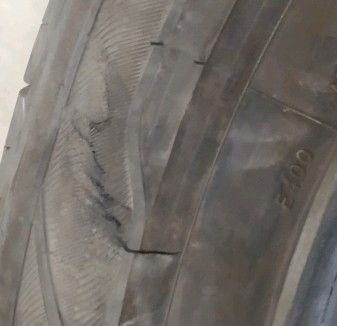cut: (66, 37, 186, 267)
